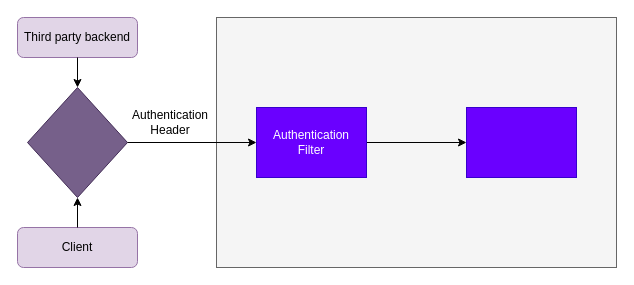
Image size: 634x285. Some labels were removed from this diagram. The box of each missing label's shape, as (x1, y1, x2, y2) in pixels:
Backend Logic: (466, 106, 576, 178)
Security Gateway: (26, 86, 128, 198)
